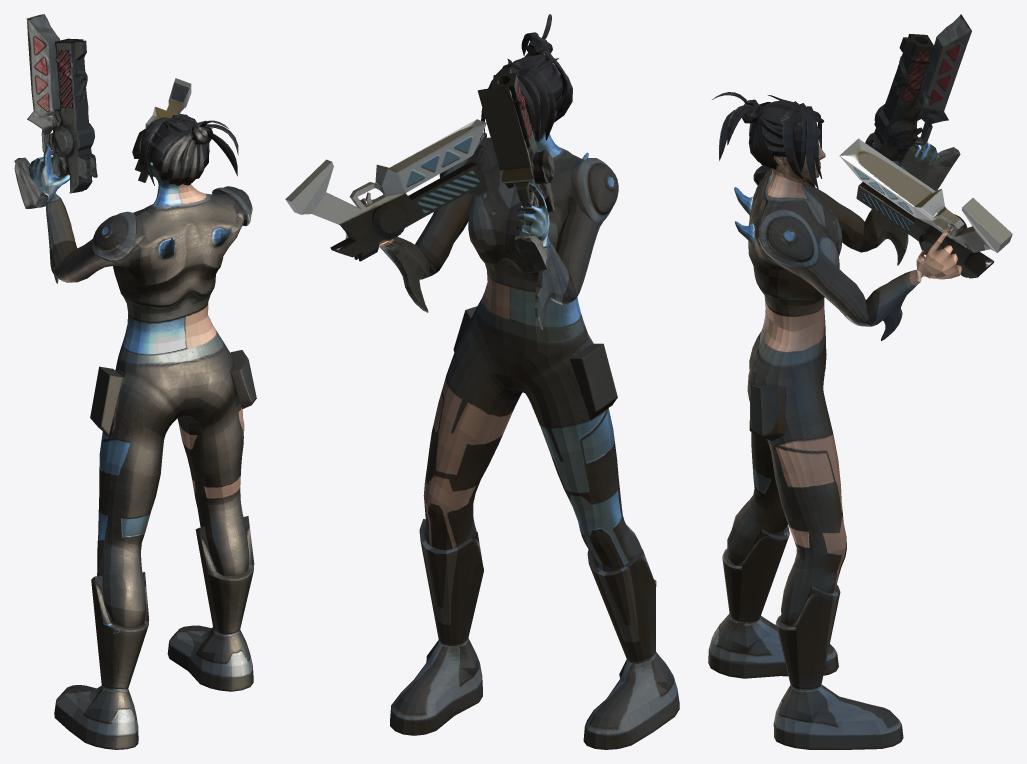
The picture shows the model from 3 angles, left to right: view 1: azimuth 30°, elevation 25°; view 2: azimuth 150°, elevation 25°; view 3: azimuth 270°, elevation 25°; orthographic projection. The views are drawn at different scales.
Visible parts, largest first — view 1: Dex_LOW_Plane.001; view 2: Dex_LOW_Plane.001; view 3: Dex_LOW_Plane.001.
Boxes of the visible parts, bbox=[...] form: Dex_LOW_Plane.001: bbox=[14, 14, 256, 749]; Dex_LOW_Plane.001: bbox=[285, 14, 679, 749]; Dex_LOW_Plane.001: bbox=[708, 14, 1012, 749].
Bounding box in the file's own units: 1.91 × 5.08 × 2.12.
